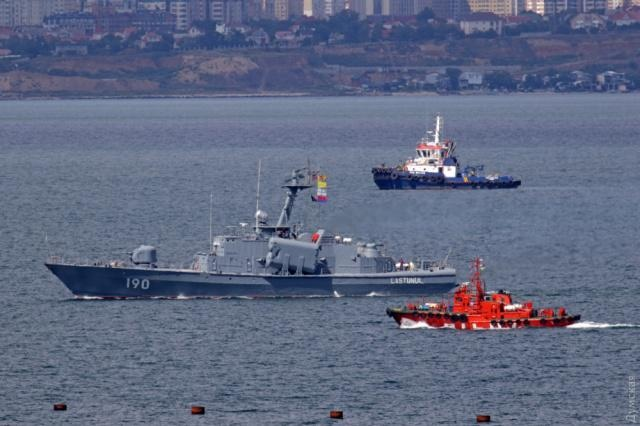otherboat: (369, 108, 522, 190), (381, 267, 575, 328)
warship: (44, 155, 434, 302)
